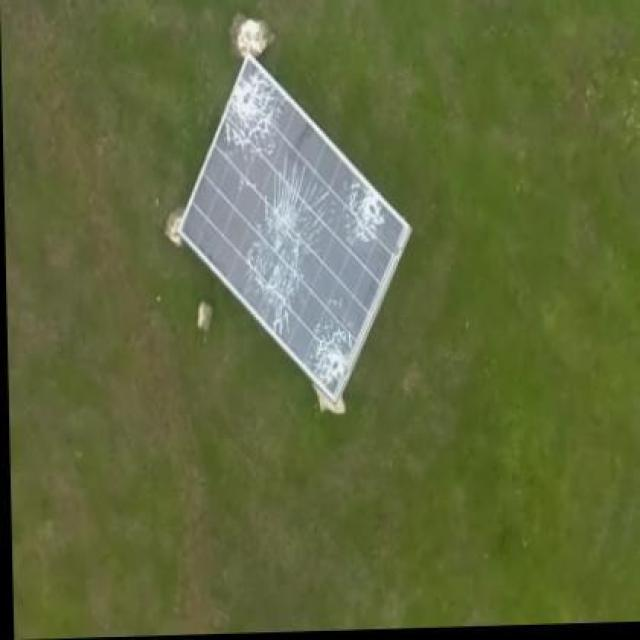cracked: (174, 56, 422, 402)
